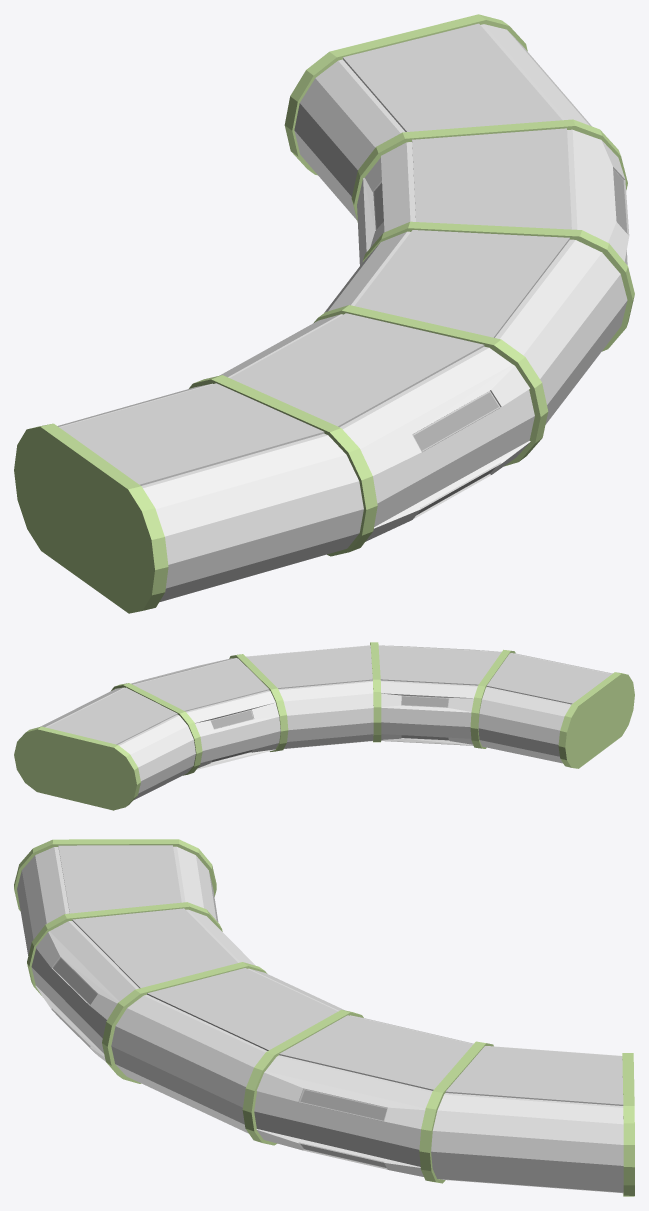
3 renders of one model, top to bottom at view 1: azimuth 30°, elevation 25°; view 2: azimuth 150°, elevation 25°; view 3: azimuth 270°, elevation 25°, orthographic. The views are drawn at different scales.
Visible parts, largest first — view 1: Cylinder_13; view 2: Cylinder_13; view 3: Cylinder_13.
Part boxes in pixels (x1,y1,x2,y2): Cylinder_13: (14,14,634,613); Cylinder_13: (14,642,634,810); Cylinder_13: (14,839,634,1196).
Size of the model in its own units: 2000 by 297 by 1851.
